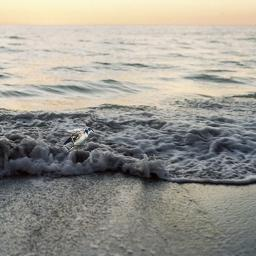Swallow: (57, 127, 94, 155)
